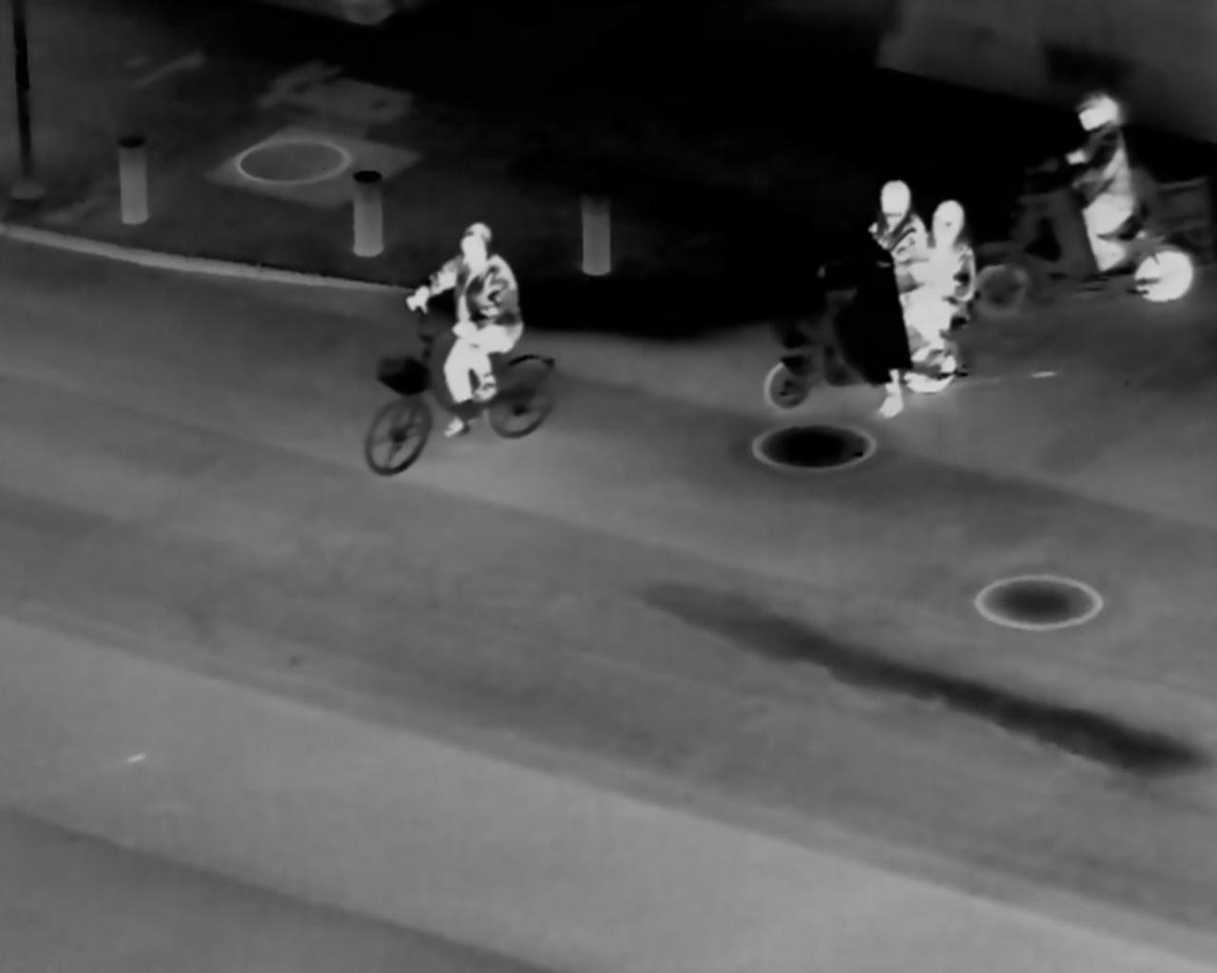person: (396, 217, 539, 409), (1055, 90, 1138, 280), (865, 170, 926, 419), (919, 190, 981, 397)
